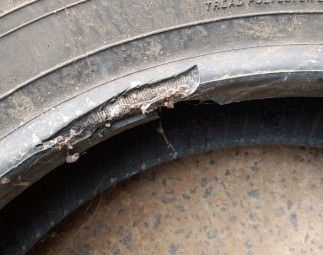bead_damage: (24, 56, 225, 175)
